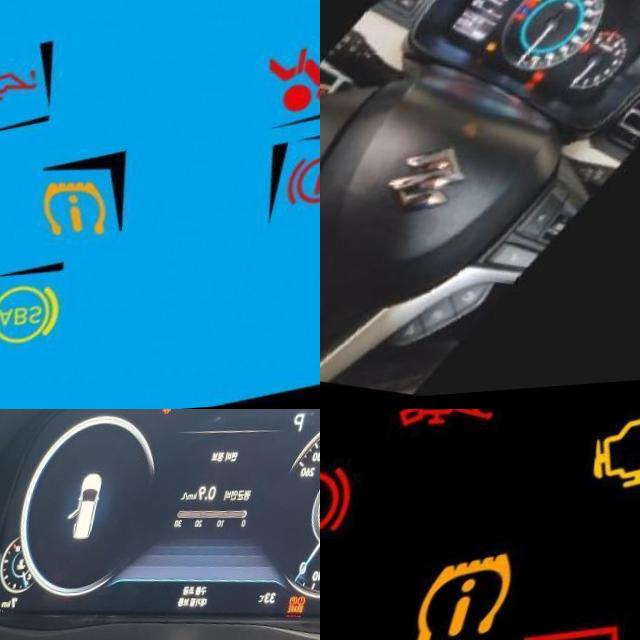Engine cooling system: (538, 5, 548, 12)
